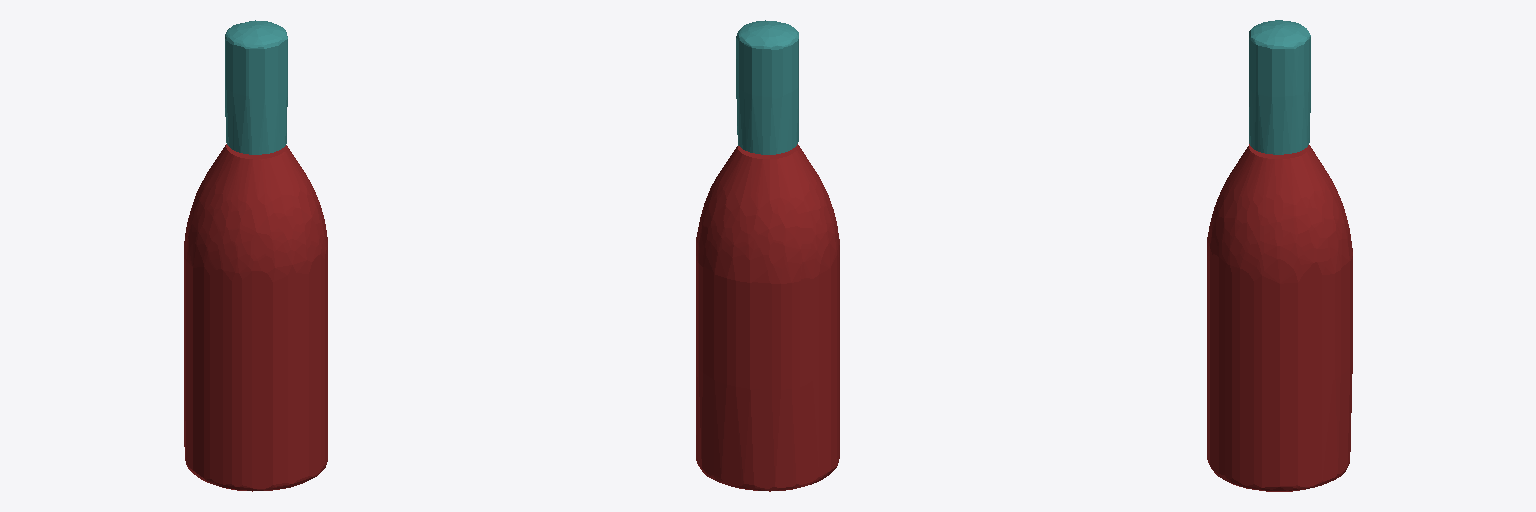
The robot description file, URDF, robot "root":
<robot name="root">
  <link name="bottle_body">
    <inertial>
      <origin xyz="0 0 0" rpy="0 0 0"/>
    </inertial>
    <mass value="1.00E-02"/>
    <visual>
      <origin xyz="0 0 0" rpy="0 0 0"/>
      <geometry>
        <mesh filename="core-bottle-532376fe56d3597ac65f62bae01f4803-coacd_convex_piece_1.obj" scale="1.0000E-01 1.0000E-01 1.0000E-01"/>
      </geometry>
      <material name="">
        <color rgba="6.00E-01 2.00E-01 2.00E-01 1"/>
      </material>
    </visual>
    <collision>
      <origin xyz="0 0 0" rpy="0 0 0"/>
      <geometry>
        <mesh filename="core-bottle-532376fe56d3597ac65f62bae01f4803-coacd_convex_piece_1.obj" scale="1.0000E-01 1.0000E-01 1.0000E-01"/>
      </geometry>
    </collision>
  </link>
  <link name="bottle_cap">
    <origin xyz="0 0 0.002" rpy="0 0 0"/>
    <mass value="1.00E-02"/>
    <visual>
      <origin xyz="0 0 0.002" rpy="0 0 0"/>
      <geometry>
        <mesh filename="core-bottle-532376fe56d3597ac65f62bae01f4803-coacd_convex_piece_0.obj" scale="1.0000E-01 1.0000E-01 1.0000E-01"/>
      </geometry>
      <material name="">
        <color rgba="3.00E-01 6.00E-01 6.00E-01 1"/>
      </material>
    </visual>
    <collision>
      <origin xyz="0 0 0.002" rpy="0 0 0"/>
      <geometry>
        <mesh filename="core-bottle-532376fe56d3597ac65f62bae01f4803-coacd_convex_piece_0.obj" scale="1.0000E-01 1.0000E-01 1.0000E-01"/>
      </geometry>
    </collision>
  </link>
  <joint name="bottle_cap_joint" type="revolute">
    <origin xyz="0 0 0" rpy="0 0 0"/>
    <parent link="bottle_body"/>
    <child link="bottle_cap"/>
    <axis xyz="0 0 1"/>
    <limit lower="0.00" upper="6.28"/>
    <dynamics damping="0.05"/>
  </joint>
</robot>

--- Facts derived from the render (not from the file) ---
3 views of the same robot in one strip: view 1: azimuth 30°, elevation 25°; view 2: azimuth 150°, elevation 25°; view 3: azimuth 270°, elevation 25° (orthographic).
Model root with 2 links and 1 joints (1 revolute), rooted at bottle_body, posed every joint at zero.
Visible links, largest first — view 1: bottle_body, bottle_cap; view 2: bottle_body, bottle_cap; view 3: bottle_body, bottle_cap.
Link boxes in pixels (bbox=[...]): bottle_body: bbox=[184, 144, 327, 491]; bottle_cap: bbox=[225, 20, 287, 154]; bottle_body: bbox=[696, 144, 839, 491]; bottle_cap: bbox=[736, 20, 798, 154]; bottle_body: bbox=[1207, 144, 1352, 491]; bottle_cap: bbox=[1249, 20, 1310, 154].
Bounding box of the posed robot: 0.0576 × 0.0576 × 0.1912 m (x, y, z).
2 mesh visuals loaded from 2 distinct referenced files (2 OBJ).